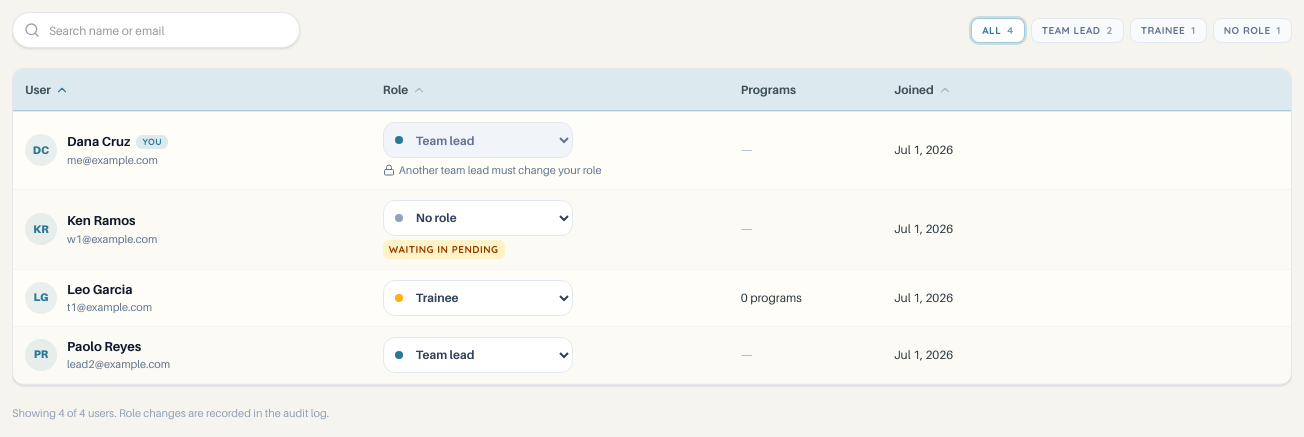
Test: UserRolesTable › filters by role and search
The width and height of the screenshot is (1304, 437).
Click the button "Trainee 1".
click(1168, 30)  # box [1130, 18, 1207, 42]
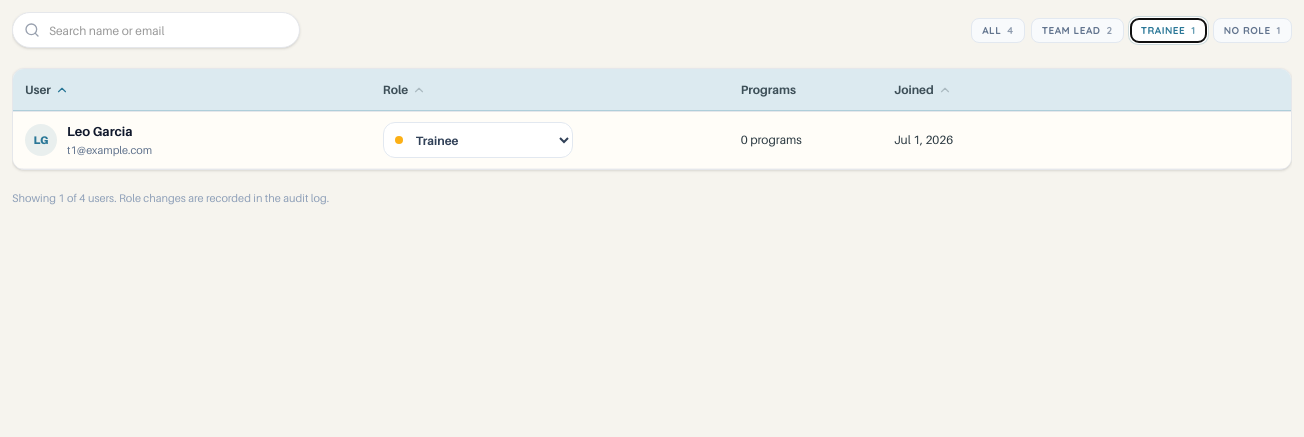
Expected: the text "Leo Garcia" is shown, [67, 122, 133, 142]
Expected: the text "Paolo Reyes" is gone
Click the button "All 4".
click(998, 30)  # box [971, 18, 1025, 42]
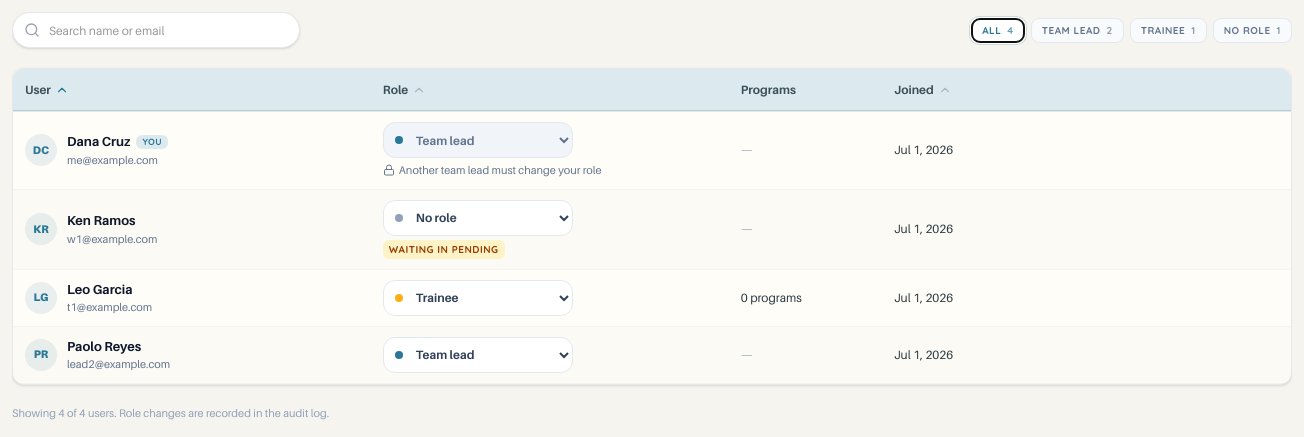
Type "ken" into the search field named "Search users".
click(156, 30); type("ken")  # box [12, 12, 300, 48]
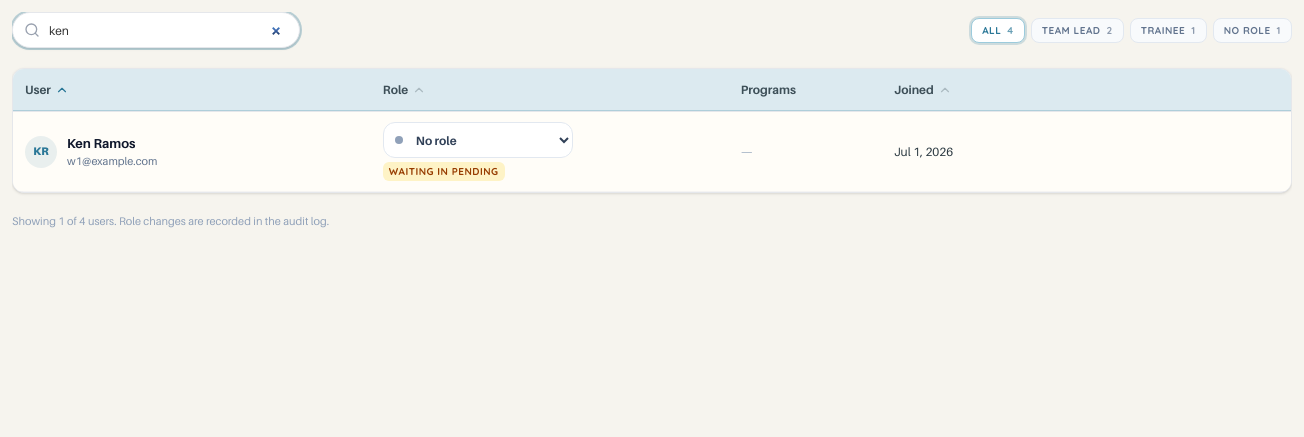
Expected: the text "Ken Ramos" is shown, [67, 134, 136, 153]
Expected: the text "Leo Garcia" is gone
